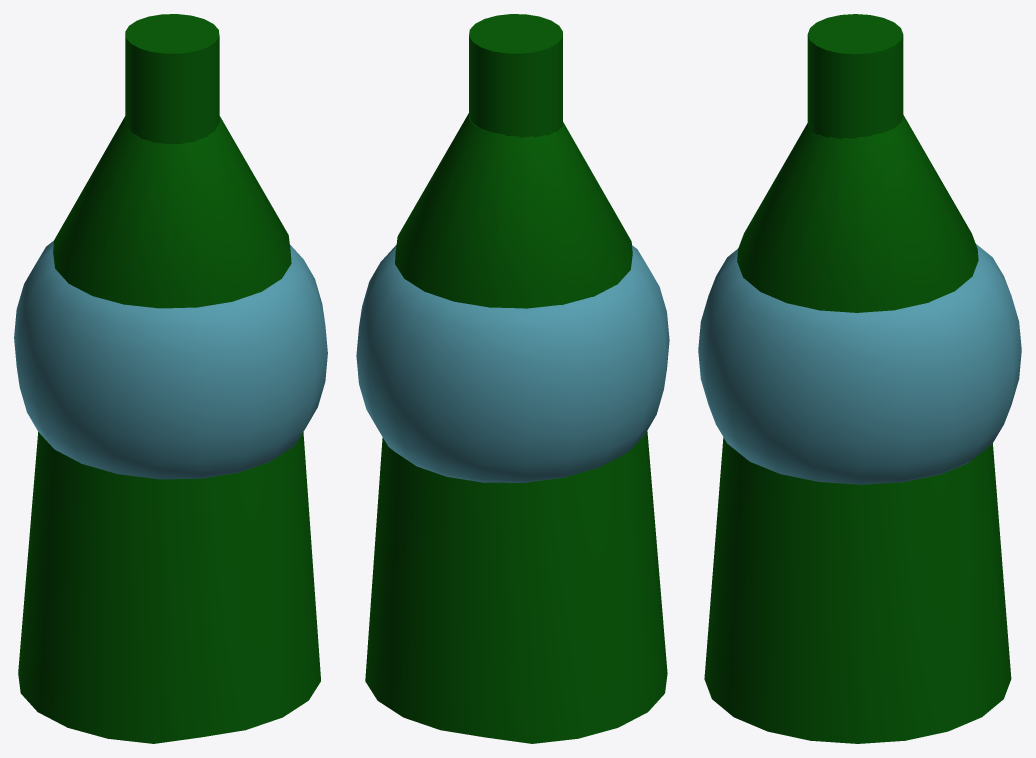
Rendered from Bottle for pickup.fbx.
3 renders of one model, left to right at view 1: azimuth 30°, elevation 25°; view 2: azimuth 150°, elevation 25°; view 3: azimuth 270°, elevation 25°, orthographic.
Parts seen in each view (by area): view 1: polySurface157; view 2: polySurface157; view 3: polySurface157.
Boxes of the visible parts, box(x1,y1,x2,y2) form: polySurface157: box(14, 14, 327, 743); polySurface157: box(356, 14, 669, 743); polySurface157: box(698, 14, 1021, 743).
Bounding box in the file's own units: 42.18 × 96.05 × 43.25.
